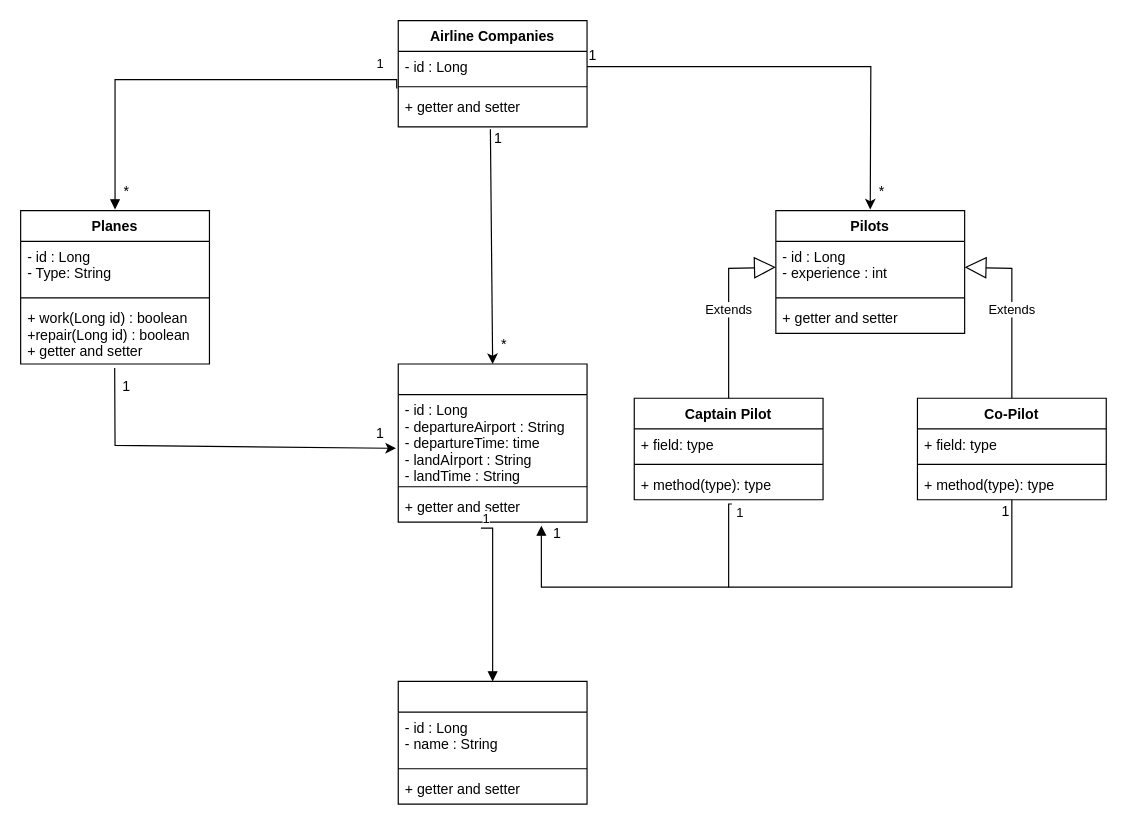
The diagram is 1127 pixels wide and 828 high, and some of its shapes have lost their labels. The box of each missing label's shape, as (x1, y1, x2, y2) in pixels:
AirPort: (397, 680, 587, 804)
Flies: (397, 363, 587, 522)
